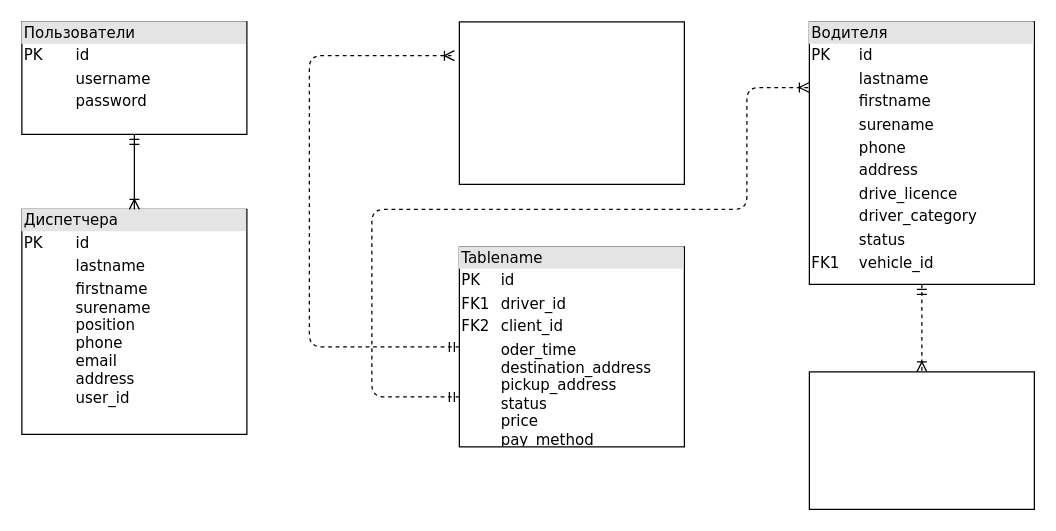
The diagram is 1056 pixels wide and 531 high, and some of its shapes have lost their labels. Each missing label, with the centre of its shape:
Автомобили PK id model color tech_codition fuel_type: pixel 921 440
Клиенты PK Id firstname lastname surename phone status: pixel 571 102
